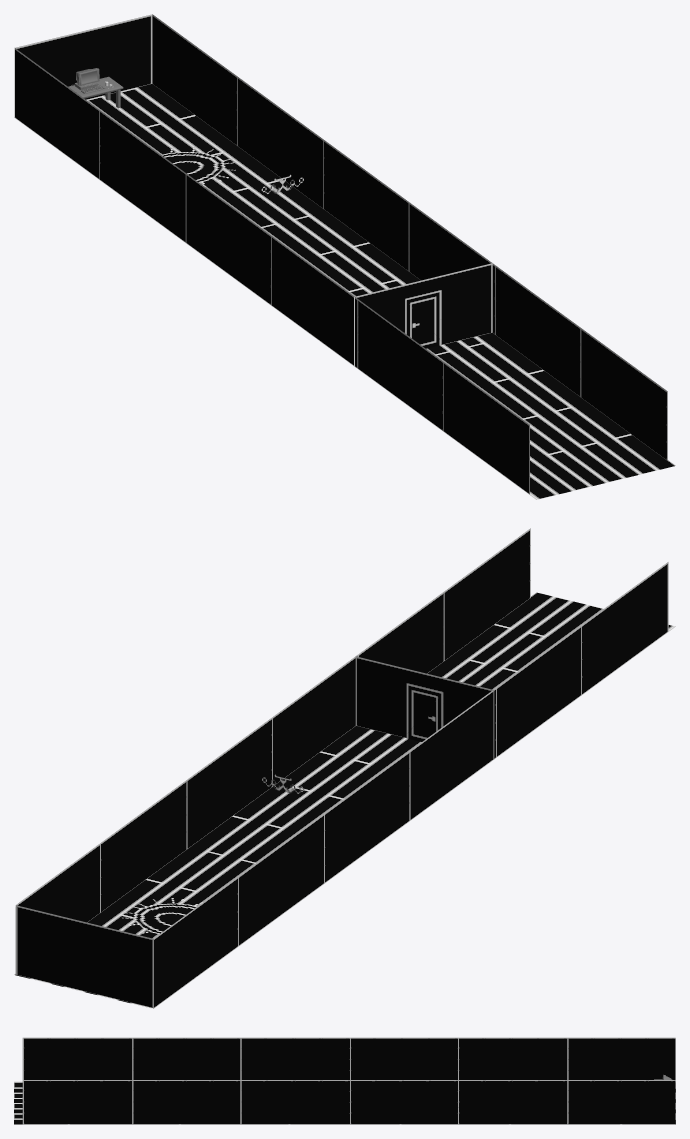
File: Room.fbx
3 renders of one model, top to bottom at view 1: azimuth 30°, elevation 25°; view 2: azimuth 150°, elevation 25°; view 3: azimuth 270°, elevation 25°, orthographic. The views are drawn at different scales.
Parts seen in each view (by area): view 1: floor020, floor018, floor019, Plane601, Plane591, Plane599, Plane589, Plane590, Plane597, Plane595, Plane592, Plane594 (+7 smaller); view 2: floor019, Plane601, floor020, Plane589, Plane595, Plane597, Plane591, Plane599, Plane592, Plane596, Plane594, Plane600 (+7 smaller); view 3: Plane589, Plane593, Plane597, Plane598, Plane590, Plane594, Plane591, Plane595, Plane599, Plane592, Plane600, Plane596 (+3 smaller).
Boxes of the visible parts, x1,y1,x2,y2 form: floor020: (362, 339, 675, 499); floor018: (14, 84, 325, 244); floor019: (188, 211, 500, 372); Plane601: (14, 14, 152, 117); Plane591: (443, 362, 529, 494); Plane599: (100, 110, 186, 242); Plane589: (581, 328, 667, 460); Plane590: (495, 266, 581, 397); Plane597: (237, 77, 323, 209); Plane595: (271, 236, 357, 368); Plane592: (358, 299, 443, 430); Plane594: (324, 140, 409, 271); floor019: (190, 726, 501, 881); Plane601: (16, 905, 153, 1008); floor020: (427, 592, 675, 753); Plane589: (444, 528, 530, 660); Plane595: (410, 687, 496, 819); Plane597: (101, 780, 187, 912); Plane591: (582, 562, 668, 694); Plane599: (238, 813, 324, 945); Plane592: (496, 625, 581, 756); Plane596: (325, 751, 410, 882); Plane594: (187, 717, 272, 848); Plane600: (154, 876, 238, 1007); Plane589: (22, 1080, 132, 1124); Plane593: (240, 1080, 349, 1124); Plane597: (458, 1080, 567, 1124); Plane598: (567, 1080, 675, 1124); Plane590: (132, 1080, 240, 1124); Plane594: (350, 1080, 457, 1124); Plane591: (22, 1037, 132, 1079); Plane595: (240, 1037, 349, 1079); Plane599: (458, 1037, 567, 1079); Plane592: (132, 1037, 240, 1079); Plane600: (567, 1037, 675, 1079); Plane596: (350, 1037, 457, 1079).
Size of the model in its own units: 334 by 160 by 2162.
